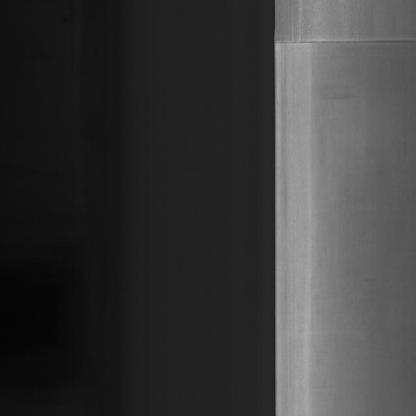welding_line: (276, 32, 414, 51)
